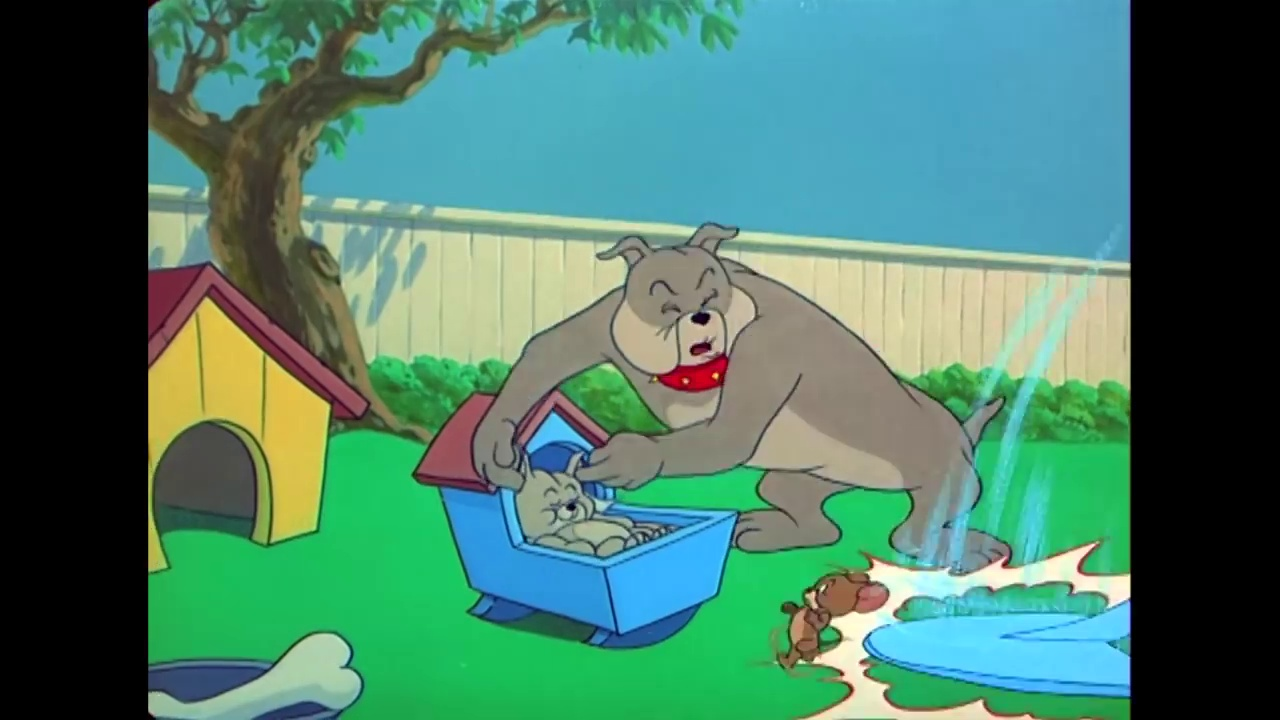spike: (589, 220, 765, 396)
